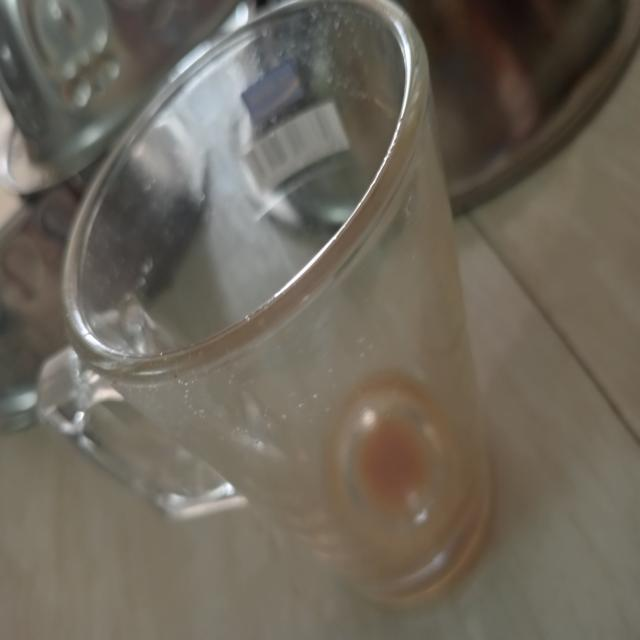glass-VX4N: (36, 0, 521, 615)
